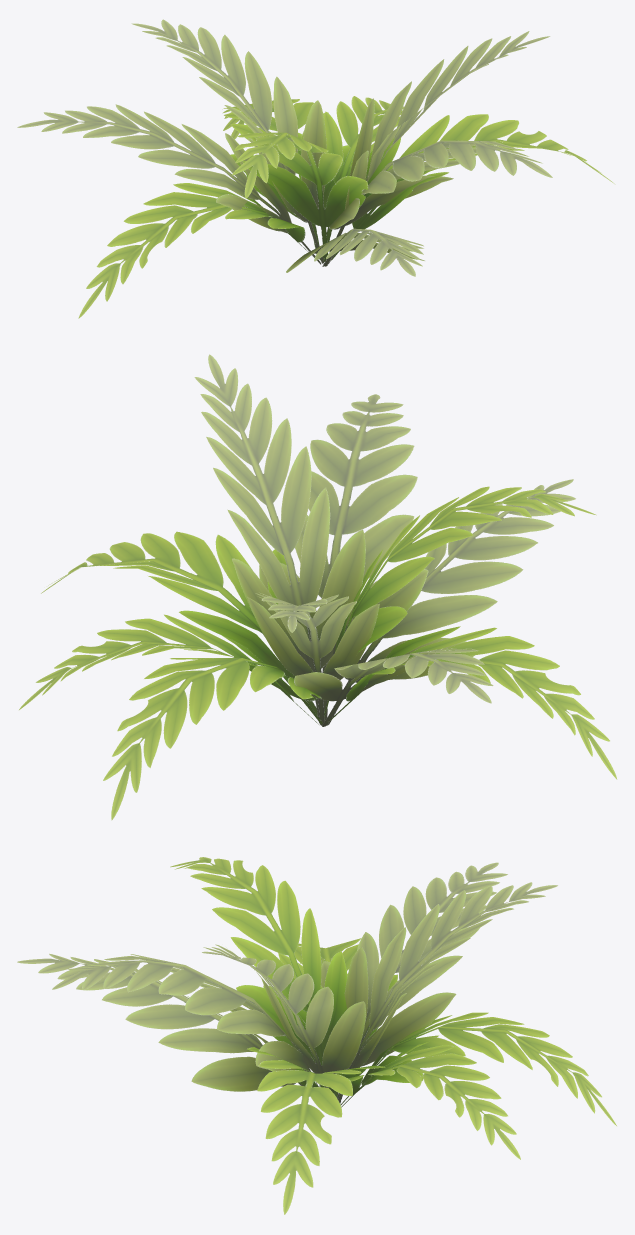
File: SM_Fern_03_Unity.fbx
3 views of the same model, one above another, from view 1: azimuth 30°, elevation 25°; view 2: azimuth 150°, elevation 25°; view 3: azimuth 270°, elevation 25° (orthographic). The views are drawn at different scales.
Visible parts, largest first — view 1: SM_Fern_03_LOD0; view 2: SM_Fern_03_LOD0; view 3: SM_Fern_03_LOD0.
Boxes of the visible parts, <box> form: SM_Fern_03_LOD0: <box>17,19,615,318</box>; SM_Fern_03_LOD0: <box>19,354,617,820</box>; SM_Fern_03_LOD0: <box>17,857,616,1214</box>.
Size of what is drawn, in the model's own units: 3.2 by 1.38 by 3.12.
